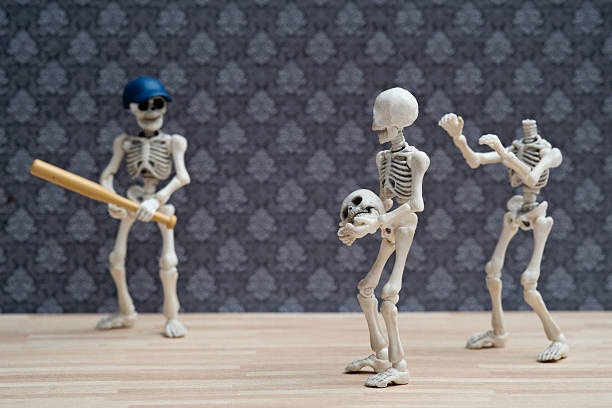bita: (33, 161, 182, 228)
